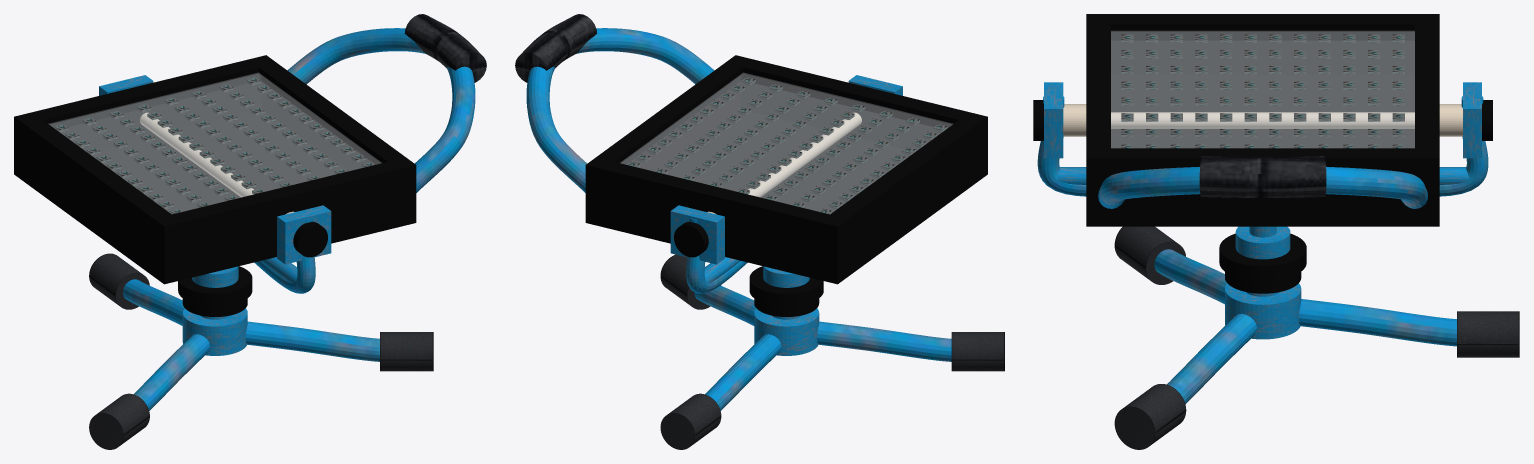
File: Equipment_LED_work_light__0890.glb
3 views of the same model, side by side, from view 1: azimuth 30°, elevation 25°; view 2: azimuth 150°, elevation 25°; view 3: azimuth 270°, elevation 25° (orthographic). The views are drawn at different scales.
Visible parts, largest first — view 1: light_head::led_glass_panel, light_head::housing_back, light_head::housing_wall_right, light_head::housing_wall_bottom, light_head::carry_handle, light_head::housing_wall_left, light_head::bezel_bottom, light_head::bezel_right, light_head::bezel_left, light_head::bezel_top, light_head::housing_wall_top, stand_frame::leg_2 (+17 smaller); view 2: light_head::led_glass_panel, light_head::housing_back, light_head::housing_wall_left, light_head::housing_wall_bottom, light_head::carry_handle, light_head::housing_wall_right, light_head::bezel_bottom, light_head::bezel_left, light_head::bezel_right, light_head::bezel_top, stand_frame::leg_1, light_head::housing_wall_top (+17 smaller); view 3: light_head::led_glass_panel, light_head::housing_back, light_head::housing_wall_bottom, light_head::housing_wall_top, light_head::bezel_bottom, light_head::carry_handle, light_head::bezel_top, light_head::handle_grip, stand_frame::leg_0, light_head::pivot_shaft, stand_frame::foot_2, light_head::bezel_left (+19 smaller).
Boxes of the visible parts, x1,y1,x2,y2 form: light_head::led_glass_panel: [49, 73, 381, 213]; light_head::housing_back: [14, 111, 416, 284]; light_head::housing_wall_right: [159, 174, 416, 277]; light_head::housing_wall_bottom: [20, 124, 174, 280]; light_head::carry_handle: [287, 28, 475, 192]; light_head::housing_wall_left: [14, 73, 261, 174]; light_head::bezel_bottom: [14, 112, 182, 232]; light_head::bezel_right: [172, 162, 398, 228]; light_head::bezel_left: [32, 59, 258, 124]; light_head::bezel_top: [248, 55, 416, 175]; light_head::housing_wall_top: [262, 76, 416, 221]; stand_frame::leg_2: [245, 321, 379, 361]; light_head::led_glass_panel: [620, 73, 952, 213]; light_head::housing_back: [585, 111, 987, 284]; light_head::housing_wall_left: [586, 172, 843, 278]; light_head::housing_wall_bottom: [827, 127, 981, 280]; light_head::carry_handle: [526, 28, 714, 192]; light_head::housing_wall_right: [740, 73, 987, 175]; light_head::bezel_bottom: [819, 112, 987, 232]; light_head::bezel_left: [603, 162, 829, 228]; light_head::bezel_right: [743, 59, 969, 124]; light_head::bezel_top: [585, 55, 753, 175]; stand_frame::leg_1: [817, 321, 951, 361]; light_head::housing_wall_top: [585, 76, 739, 221]; light_head::led_glass_panel: [1111, 31, 1414, 147]; light_head::housing_back: [1086, 75, 1439, 226]; light_head::housing_wall_bottom: [1111, 31, 1414, 75]; light_head::housing_wall_top: [1086, 162, 1439, 222]; light_head::bezel_bottom: [1086, 14, 1439, 31]; light_head::carry_handle: [1098, 166, 1427, 208]; light_head::bezel_top: [1086, 148, 1439, 166]; light_head::handle_grip: [1199, 156, 1326, 197]; stand_frame::leg_0: [1298, 299, 1456, 346]; light_head::pivot_shaft: [1111, 112, 1414, 128]; stand_frame::foot_2: [1114, 384, 1186, 449]; light_head::bezel_left: [1415, 24, 1439, 148].
Bounding box in the file's own units: 0.4188 × 0.267 × 0.3564.
6 materials, 3 textured.
